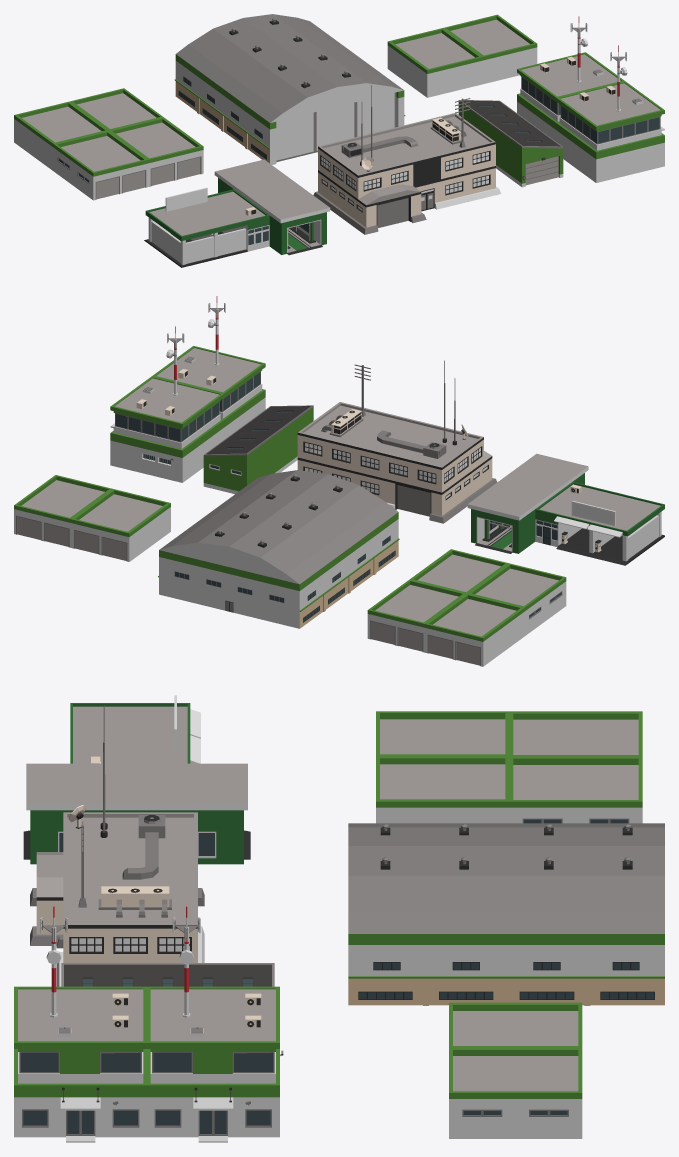
Rendered from company-buildings.glb.
3 views of the same model, one above another, from view 1: azimuth 30°, elevation 25°; view 2: azimuth 150°, elevation 25°; view 3: azimuth 270°, elevation 25° (orthographic). The views are drawn at different scales.
Parts seen in each view (by area): view 1: airport-hangar, military-headquarters, building-carwash, building-policestation.006, industry-storage, building-policestation-garage.001, building-policestation-garage.002, building-policestation.005, building-policestation-garage.006, building-policestation-garage.005, building-policestation-garage.003, building-policestation-garage.007; view 2: airport-hangar, military-headquarters, building-carwash, building-policestation.005, industry-storage, building-policestation-garage.003, building-policestation-garage.001, building-policestation.006, building-policestation-garage.007, building-policestation-garage.005, building-policestation-garage.002, building-policestation-garage.006; view 3: airport-hangar, military-headquarters, building-carwash, building-policestation.005, building-policestation.006, building-policestation-garage.005, building-policestation-garage.007, building-policestation-garage.006, building-policestation-garage.002, building-policestation-garage.003, building-policestation-garage.001, industry-storage.
Boxes of the visible parts, x1,y1,x2,y2 form: airport-hangar: [174, 14, 405, 164]; military-headquarters: [313, 85, 500, 234]; building-carwash: [144, 159, 330, 267]; building-policestation.006: [556, 45, 664, 182]; industry-storage: [458, 100, 563, 187]; building-policestation-garage.001: [387, 28, 482, 97]; building-policestation-garage.002: [53, 130, 148, 200]; building-policestation.005: [517, 16, 624, 141]; building-policestation-garage.006: [109, 117, 203, 186]; building-policestation-garage.005: [443, 14, 537, 84]; building-policestation-garage.003: [14, 101, 108, 170]; building-policestation-garage.007: [69, 88, 163, 130]; airport-hangar: [158, 470, 399, 628]; military-headquarters: [297, 360, 497, 523]; building-carwash: [467, 453, 664, 565]; building-policestation.005: [110, 326, 223, 482]; industry-storage: [203, 405, 313, 493]; building-policestation-garage.003: [425, 593, 524, 666]; building-policestation-garage.001: [71, 489, 170, 561]; building-policestation.006: [152, 296, 265, 439]; building-policestation-garage.007: [367, 579, 466, 652]; building-policestation-garage.005: [14, 475, 112, 547]; building-policestation-garage.002: [467, 563, 566, 635]; building-policestation-garage.006: [410, 549, 508, 593]; airport-hangar: [348, 823, 664, 1005]; military-headquarters: [30, 705, 204, 986]; building-carwash: [23, 695, 250, 864]; building-policestation.005: [146, 906, 283, 1142]; building-policestation.006: [14, 906, 147, 1142]; building-policestation-garage.005: [449, 1047, 582, 1138]; building-policestation-garage.007: [509, 756, 642, 823]; building-policestation-garage.006: [376, 756, 509, 823]; building-policestation-garage.002: [376, 711, 509, 756]; building-policestation-garage.003: [509, 711, 642, 756]; building-policestation-garage.001: [449, 1002, 582, 1047]; industry-storage: [61, 963, 274, 986].
Size of the model in its own units: 69.81 by 17.68 by 48.8.
